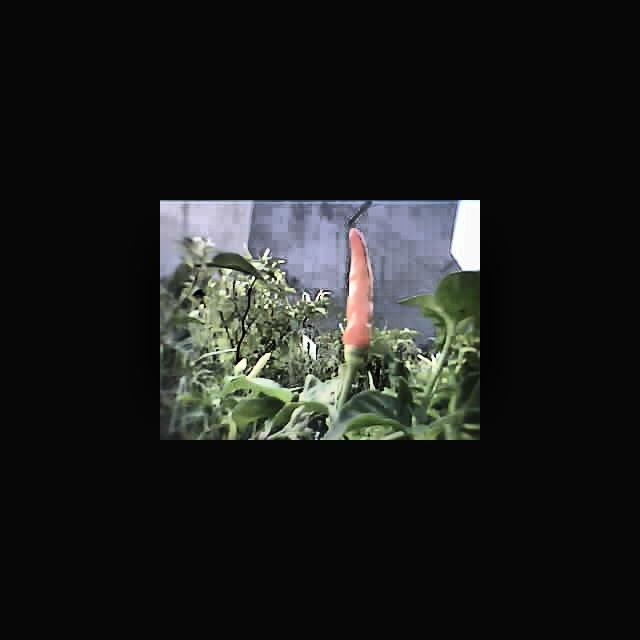Cabai: (336, 225, 385, 348)
